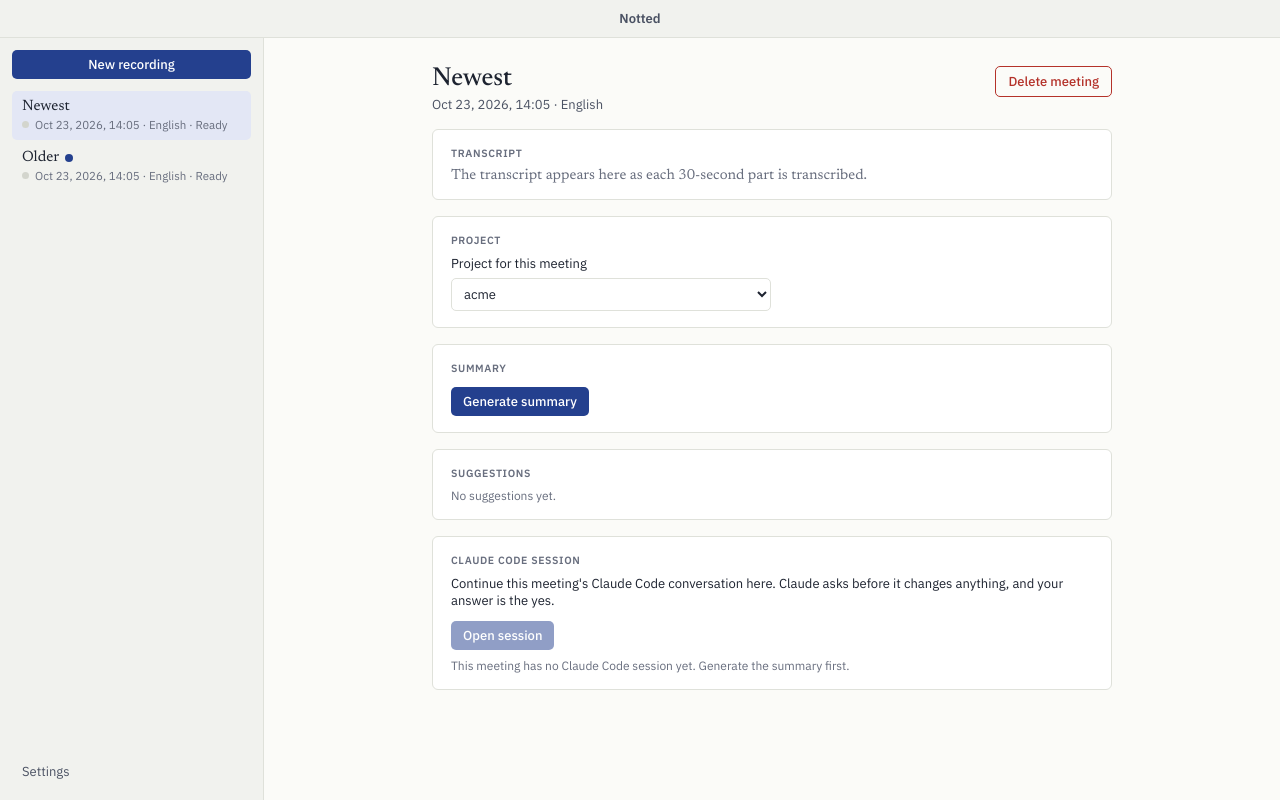
window visibility and notification clicks › bringing a waiting form into view › a sidebar click on a meeting with a waiting form does not scroll
Check: the heading "Newest" is shown, box [432, 66, 512, 92]
Click the text "Older" at (48, 158), box [22, 150, 73, 165]
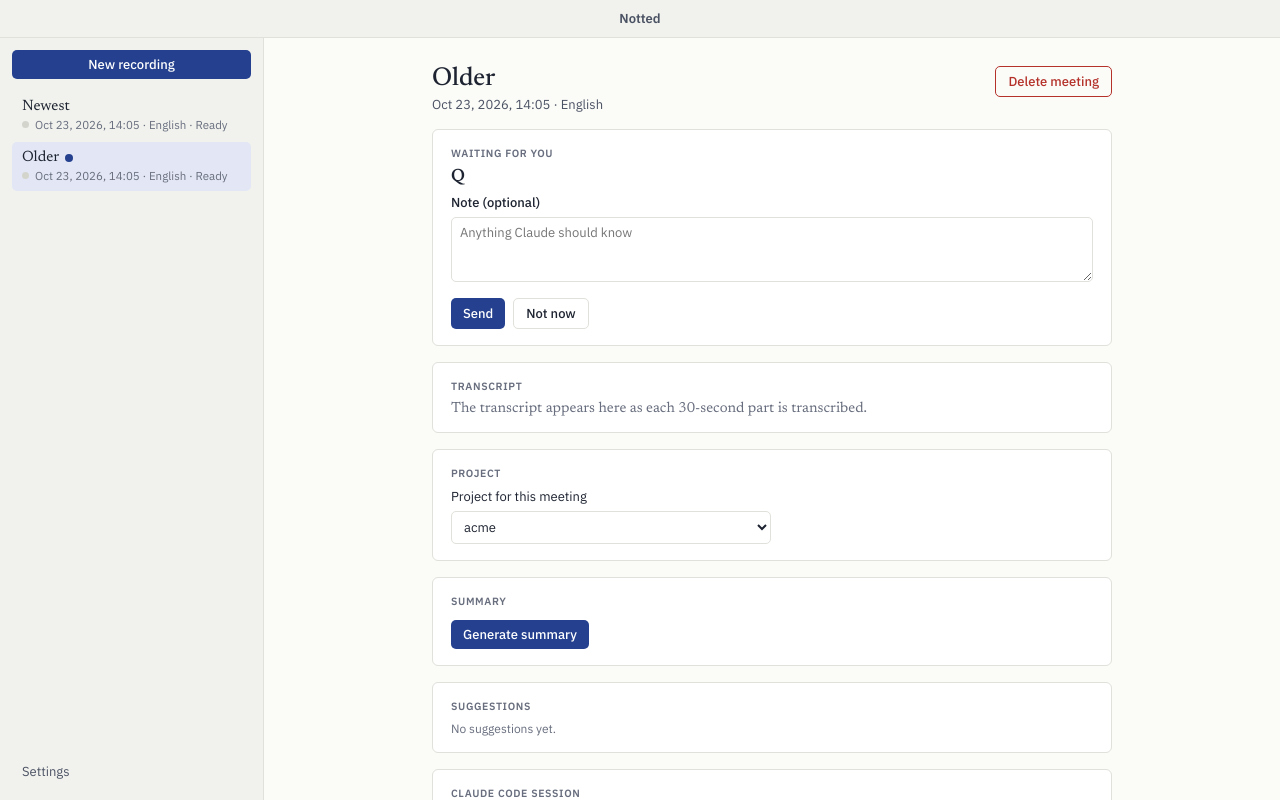
Check: the heading "Older" is shown, box [432, 66, 495, 92]
Check: the element "Waiting for you" is shown, box [432, 129, 1112, 346]
